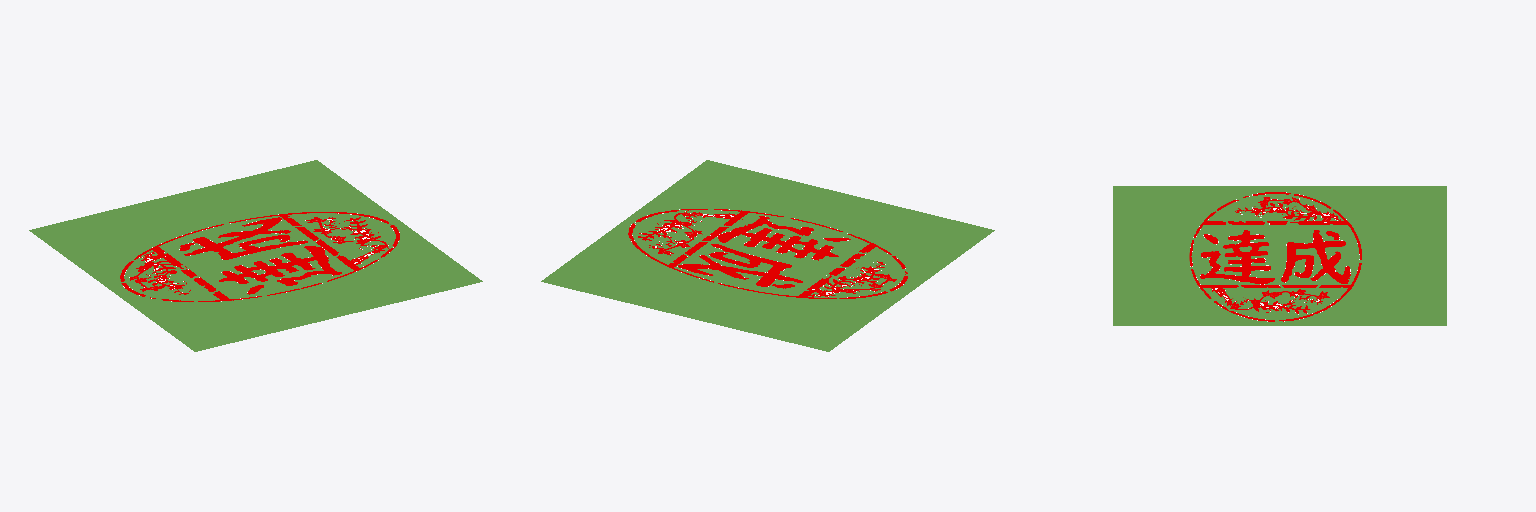
3 views of the same model, side by side, from view 1: azimuth 30°, elevation 25°; view 2: azimuth 150°, elevation 25°; view 3: azimuth 270°, elevation 25° (orthographic).
Visible parts, largest first — view 1: 平面; view 2: 平面; view 3: 平面.
Boxes of the visible parts, box(x1,y1,x2,y2) form: 平面: box(29, 160, 482, 351); 平面: box(541, 160, 994, 351); 平面: box(1113, 186, 1446, 325).
Size of the model in its own units: 2 by 0 by 2.
1 materials, 1 textured.